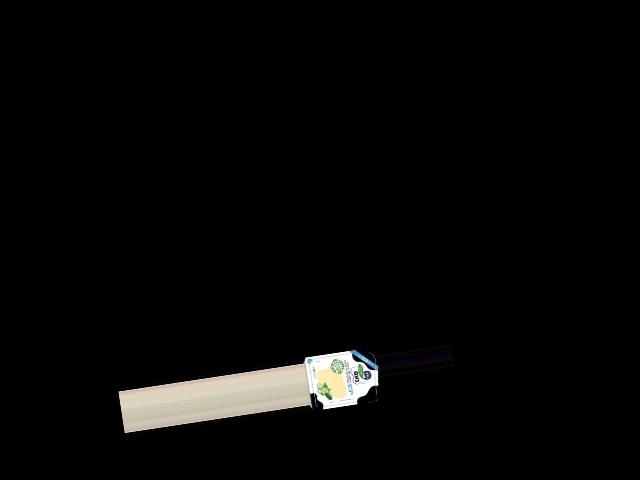cheese: (301, 343, 382, 414)
